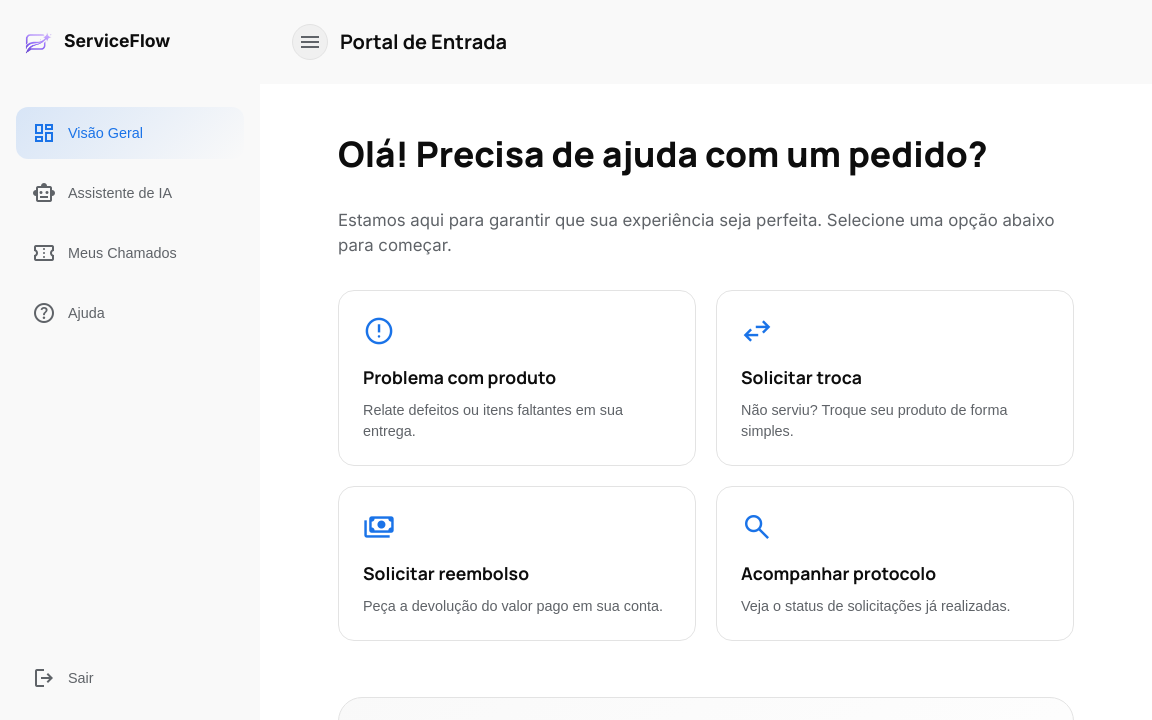
Test: ChatPage › Chat Input › deve habilitar o botão enviar quando há texto
// Navega para o chat
Click the button "Assistente de IA" at point(130, 193), box [16,167,244,219]
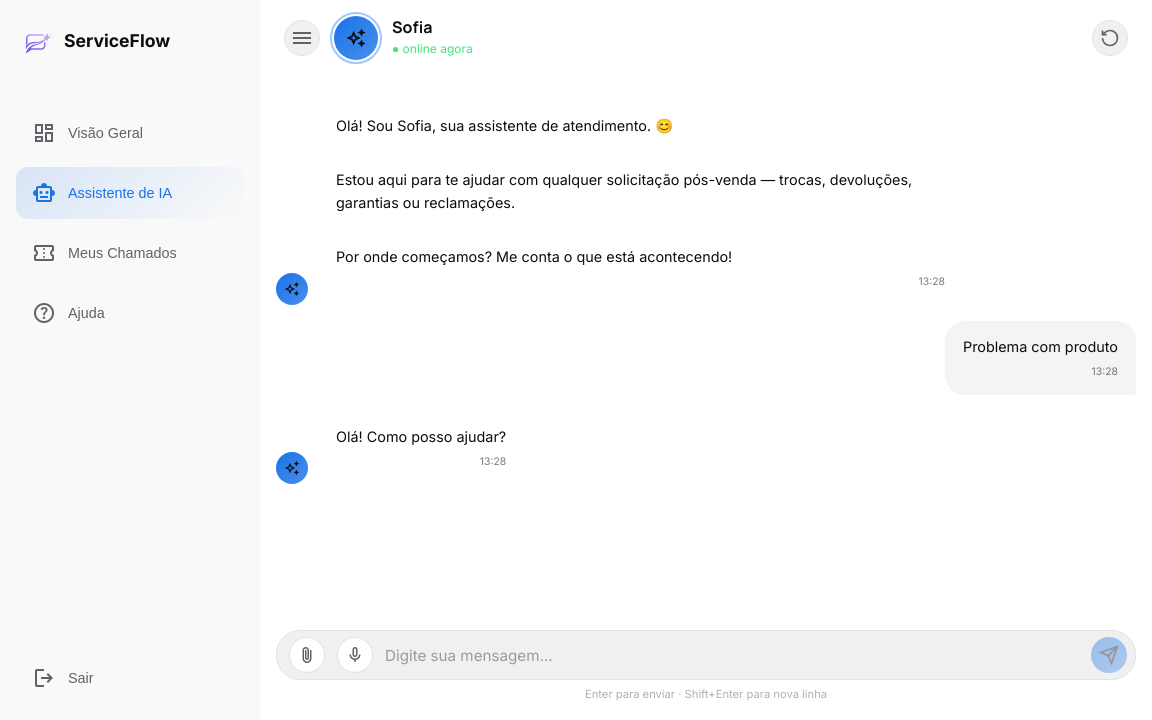
Type "teste" into the text box with id "chat-input" at point(732, 655), box [385,643,1079,667]
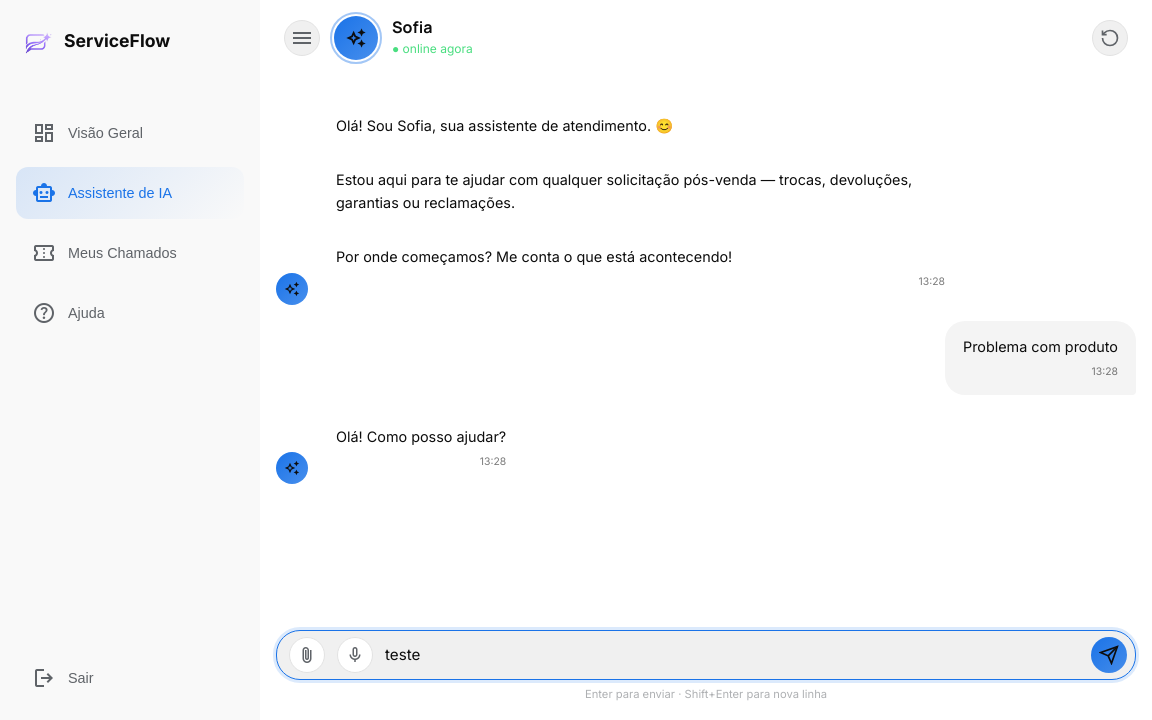
Check: the button with id "send-btn" is enabled, box [1091,637,1127,673]
